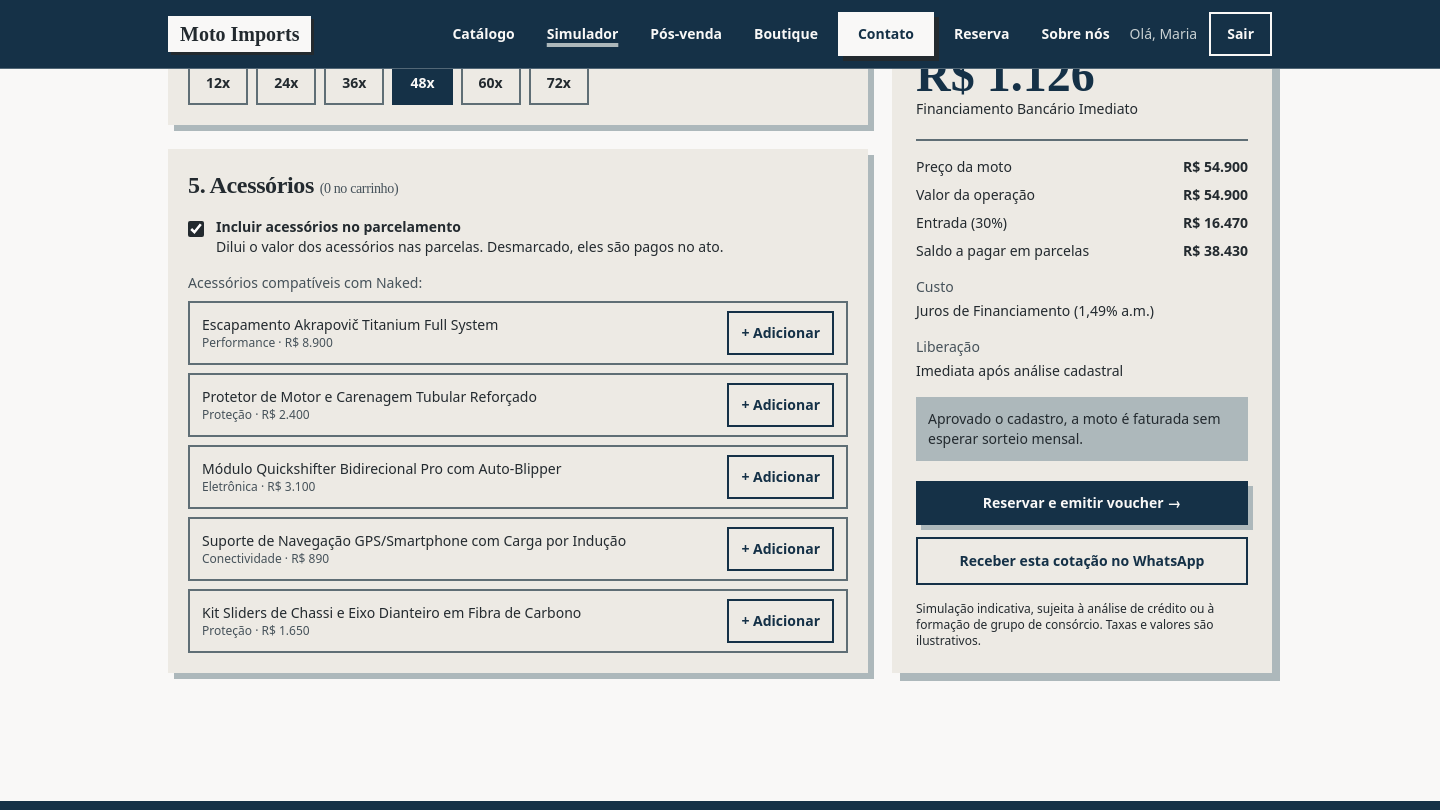
Test: Navbar (menu no celular) › RF-11: o link Reserva mostra quantos acessórios já estão na reserva
(page scrolled)
Expected: the link "Reserva" is shown, [954,24,1010,43]
Click the button with aria-label "adicionar protetor de motor". click: x=781, y=405
box: [727,383,834,427]
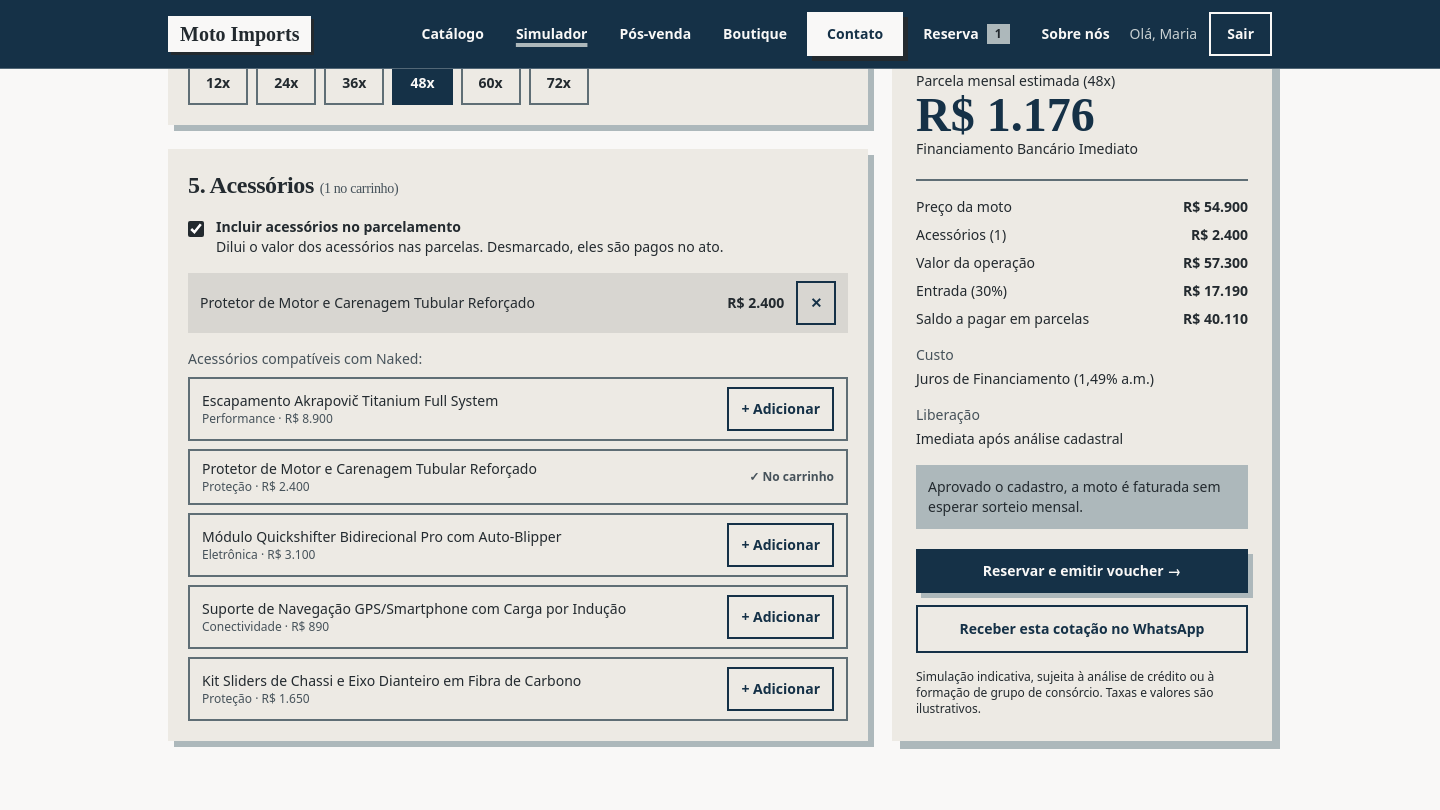
Now the link with aria-label "Reserva, 1 acessório" is shown, box [923,24,1010,44]
